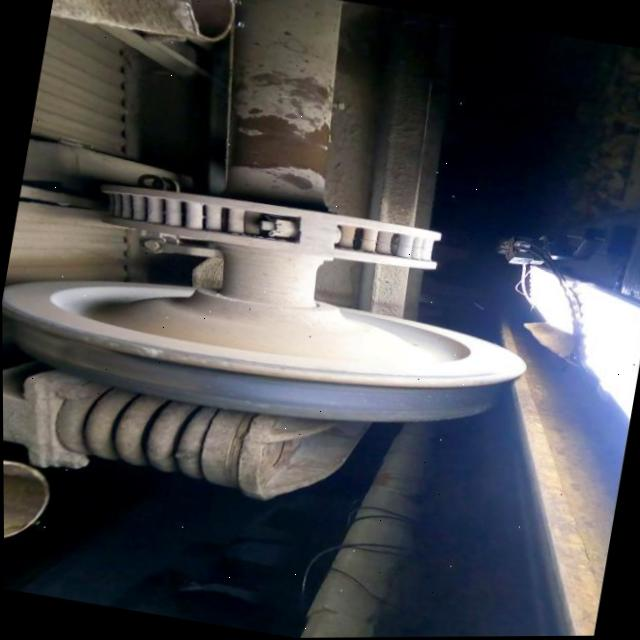Cracks-Scratches: (136, 343, 163, 357)
Shelling: (15, 320, 192, 392)
Wheel: (2, 278, 523, 421)
